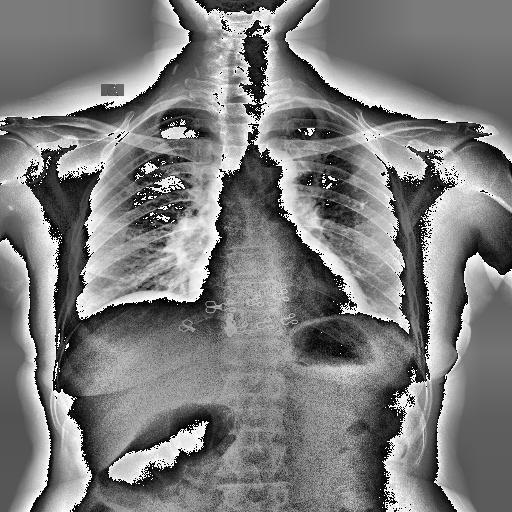0- Aortic enlargement: (241, 148, 297, 194), (248, 149, 296, 189), (253, 148, 297, 184)
10- Pleural effusion: (60, 297, 88, 342)
11- Pleural thickening: (60, 297, 88, 342)
13- Pulmonary fibrosis: (360, 196, 376, 210), (361, 202, 369, 210), (380, 172, 388, 177)
3- Cardiomegaly: (182, 262, 376, 316)
8- Nodule-Mass: (378, 170, 386, 177)
